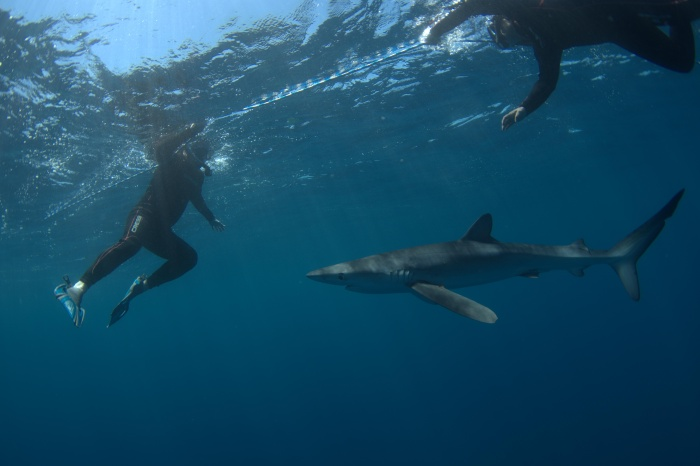Azul: (294, 182, 700, 357)
